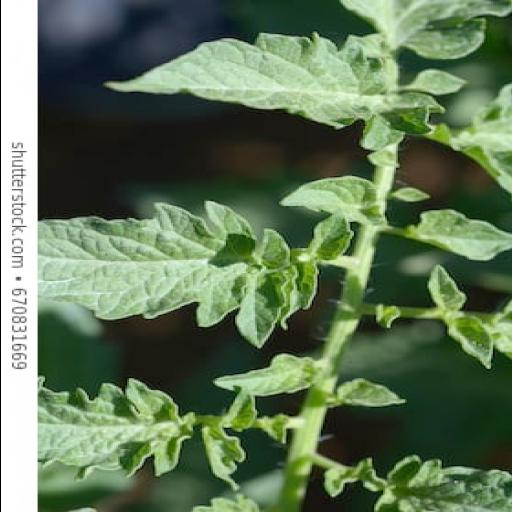Healthy: (36, 194, 302, 350), (97, 34, 393, 134), (397, 206, 512, 268), (274, 172, 392, 228), (207, 352, 329, 400)
